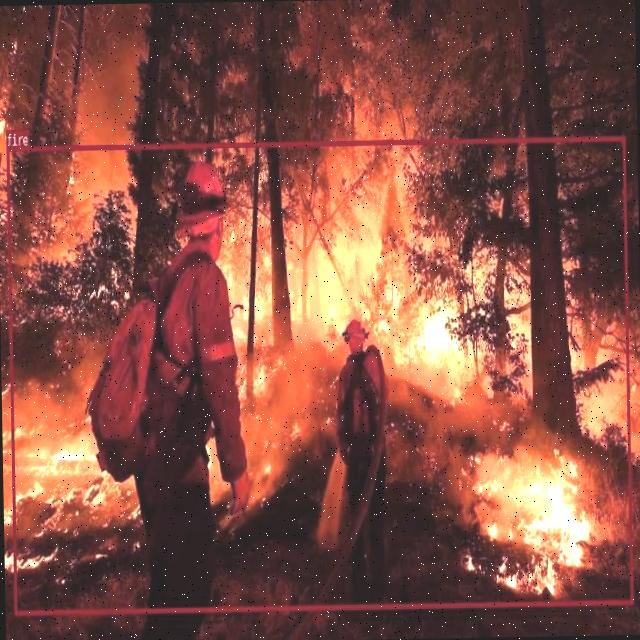fire: (5, 134, 632, 614)
